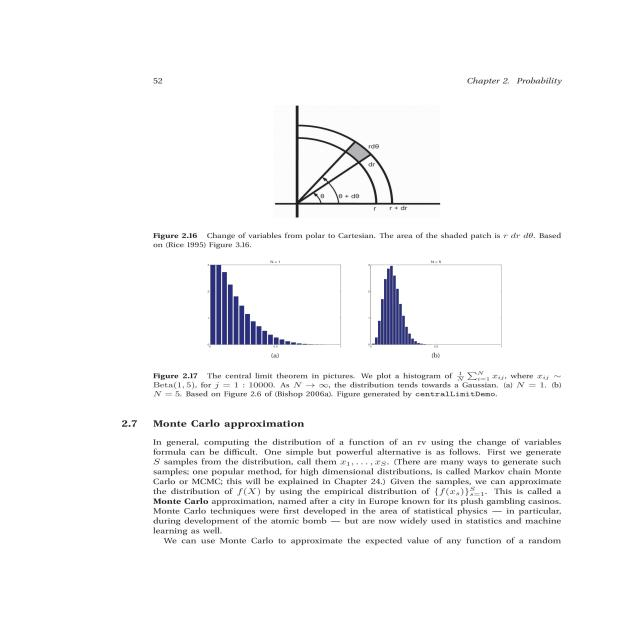diagram: (90, 104, 606, 402)
